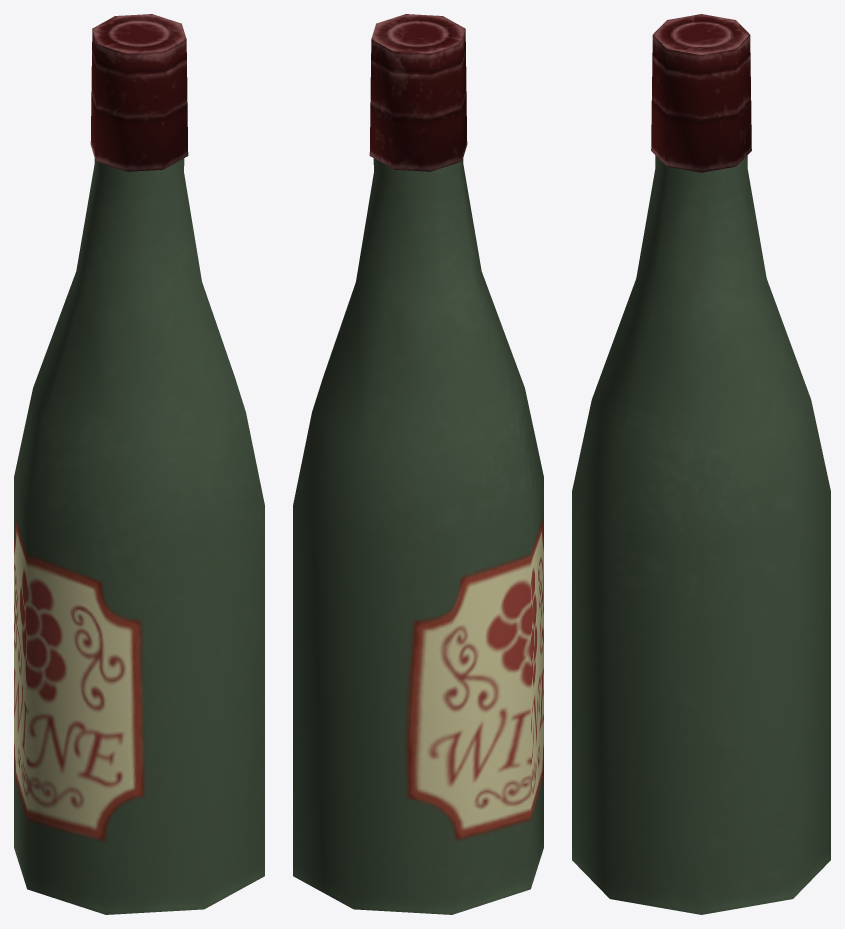
The model's file is LOD1_corkedSmallBottle_wLabel_2.fbx.
3 views of the same model, side by side, from view 1: azimuth 30°, elevation 25°; view 2: azimuth 150°, elevation 25°; view 3: azimuth 270°, elevation 25° (orthographic).
Parts seen in each view (by area): view 1: LOD1_corkedSmallBottle_wLabel_2; view 2: LOD1_corkedSmallBottle_wLabel_2; view 3: LOD1_corkedSmallBottle_wLabel_2.
Part boxes in pixels (bbox=[...]): LOD1_corkedSmallBottle_wLabel_2: bbox=[14, 14, 264, 914]; LOD1_corkedSmallBottle_wLabel_2: bbox=[293, 14, 543, 914]; LOD1_corkedSmallBottle_wLabel_2: bbox=[572, 14, 830, 914].
Size of the model in its own units: 0.0929 by 0.3272 by 0.0929.
